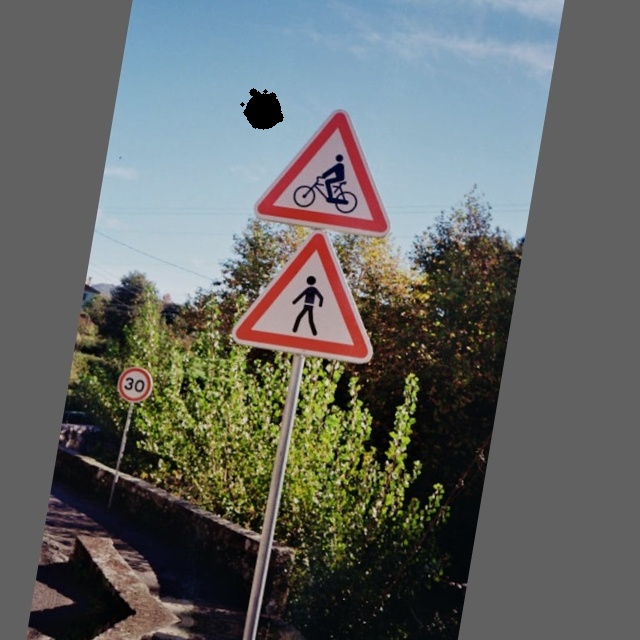Cycle_Crossing: (260, 102, 411, 242)
